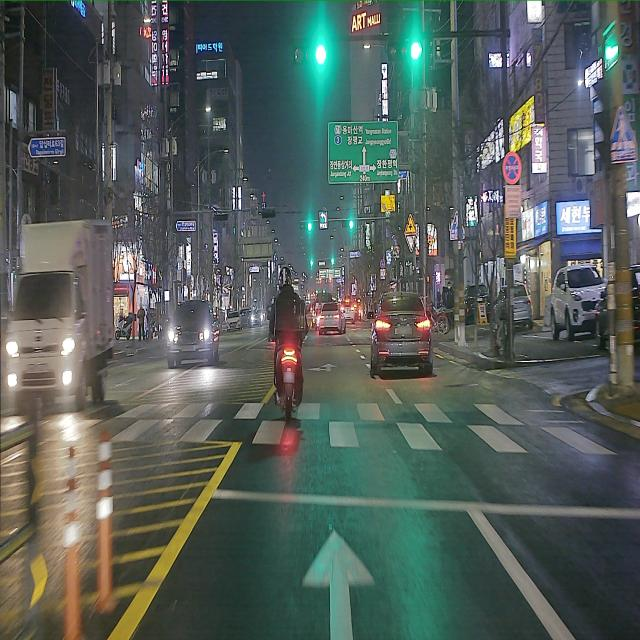Green Light: (315, 42, 327, 68), (410, 41, 422, 62)
